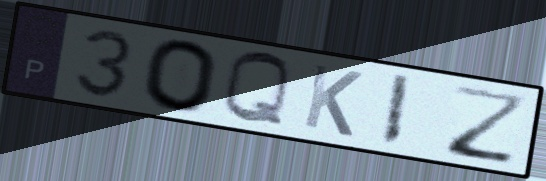3: (68, 28, 139, 100)
I: (376, 71, 414, 151)
K: (299, 61, 366, 140)
O: (141, 37, 222, 115)
Q: (219, 49, 295, 130)
Z: (445, 82, 531, 168)
